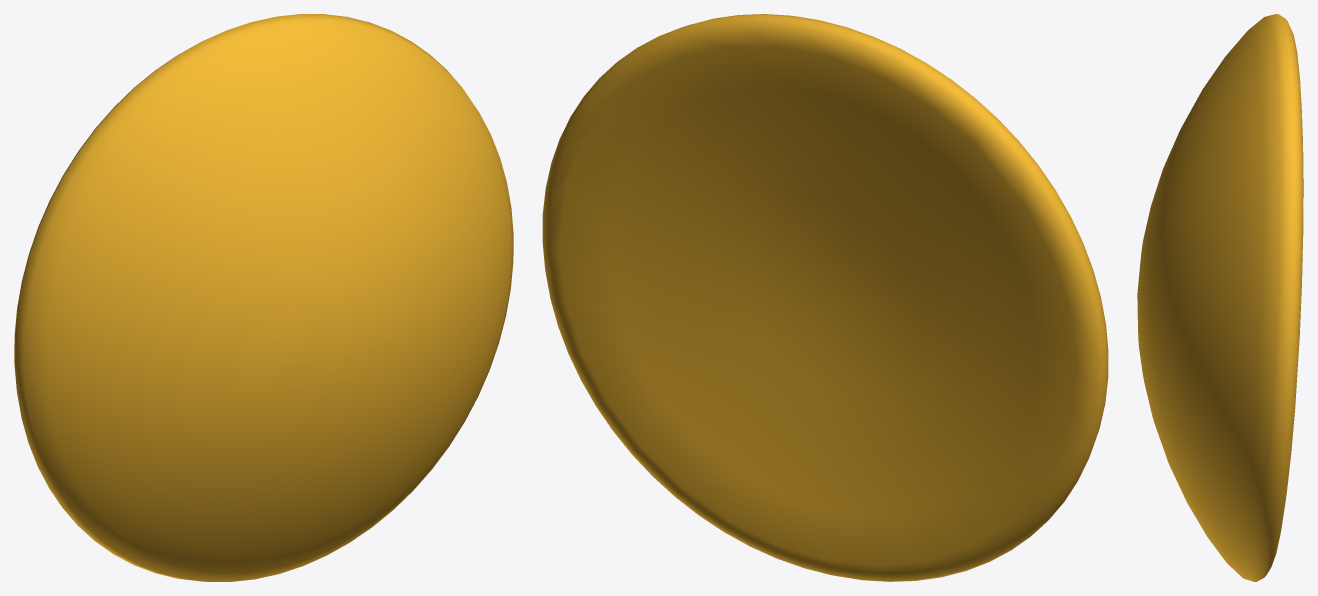
File: nervoso-anterior-chamber-of-eyeball-l.glb
The picture shows the model from 3 angles, left to right: view 1: azimuth 30°, elevation 25°; view 2: azimuth 150°, elevation 25°; view 3: azimuth 270°, elevation 25°; orthographic projection. The views are drawn at different scales.
Visible parts, largest first — view 1: Anterior chamber of eyeball.l; view 2: Anterior chamber of eyeball.l; view 3: Anterior chamber of eyeball.l.
Boxes of the visible parts, box(x1,y1,x2,y2) form: Anterior chamber of eyeball.l: box(14, 14, 513, 581); Anterior chamber of eyeball.l: box(542, 14, 1108, 581); Anterior chamber of eyeball.l: box(1137, 14, 1303, 581).
Size of the model in its own units: 0.0128 by 0.0128 by 0.00374.
